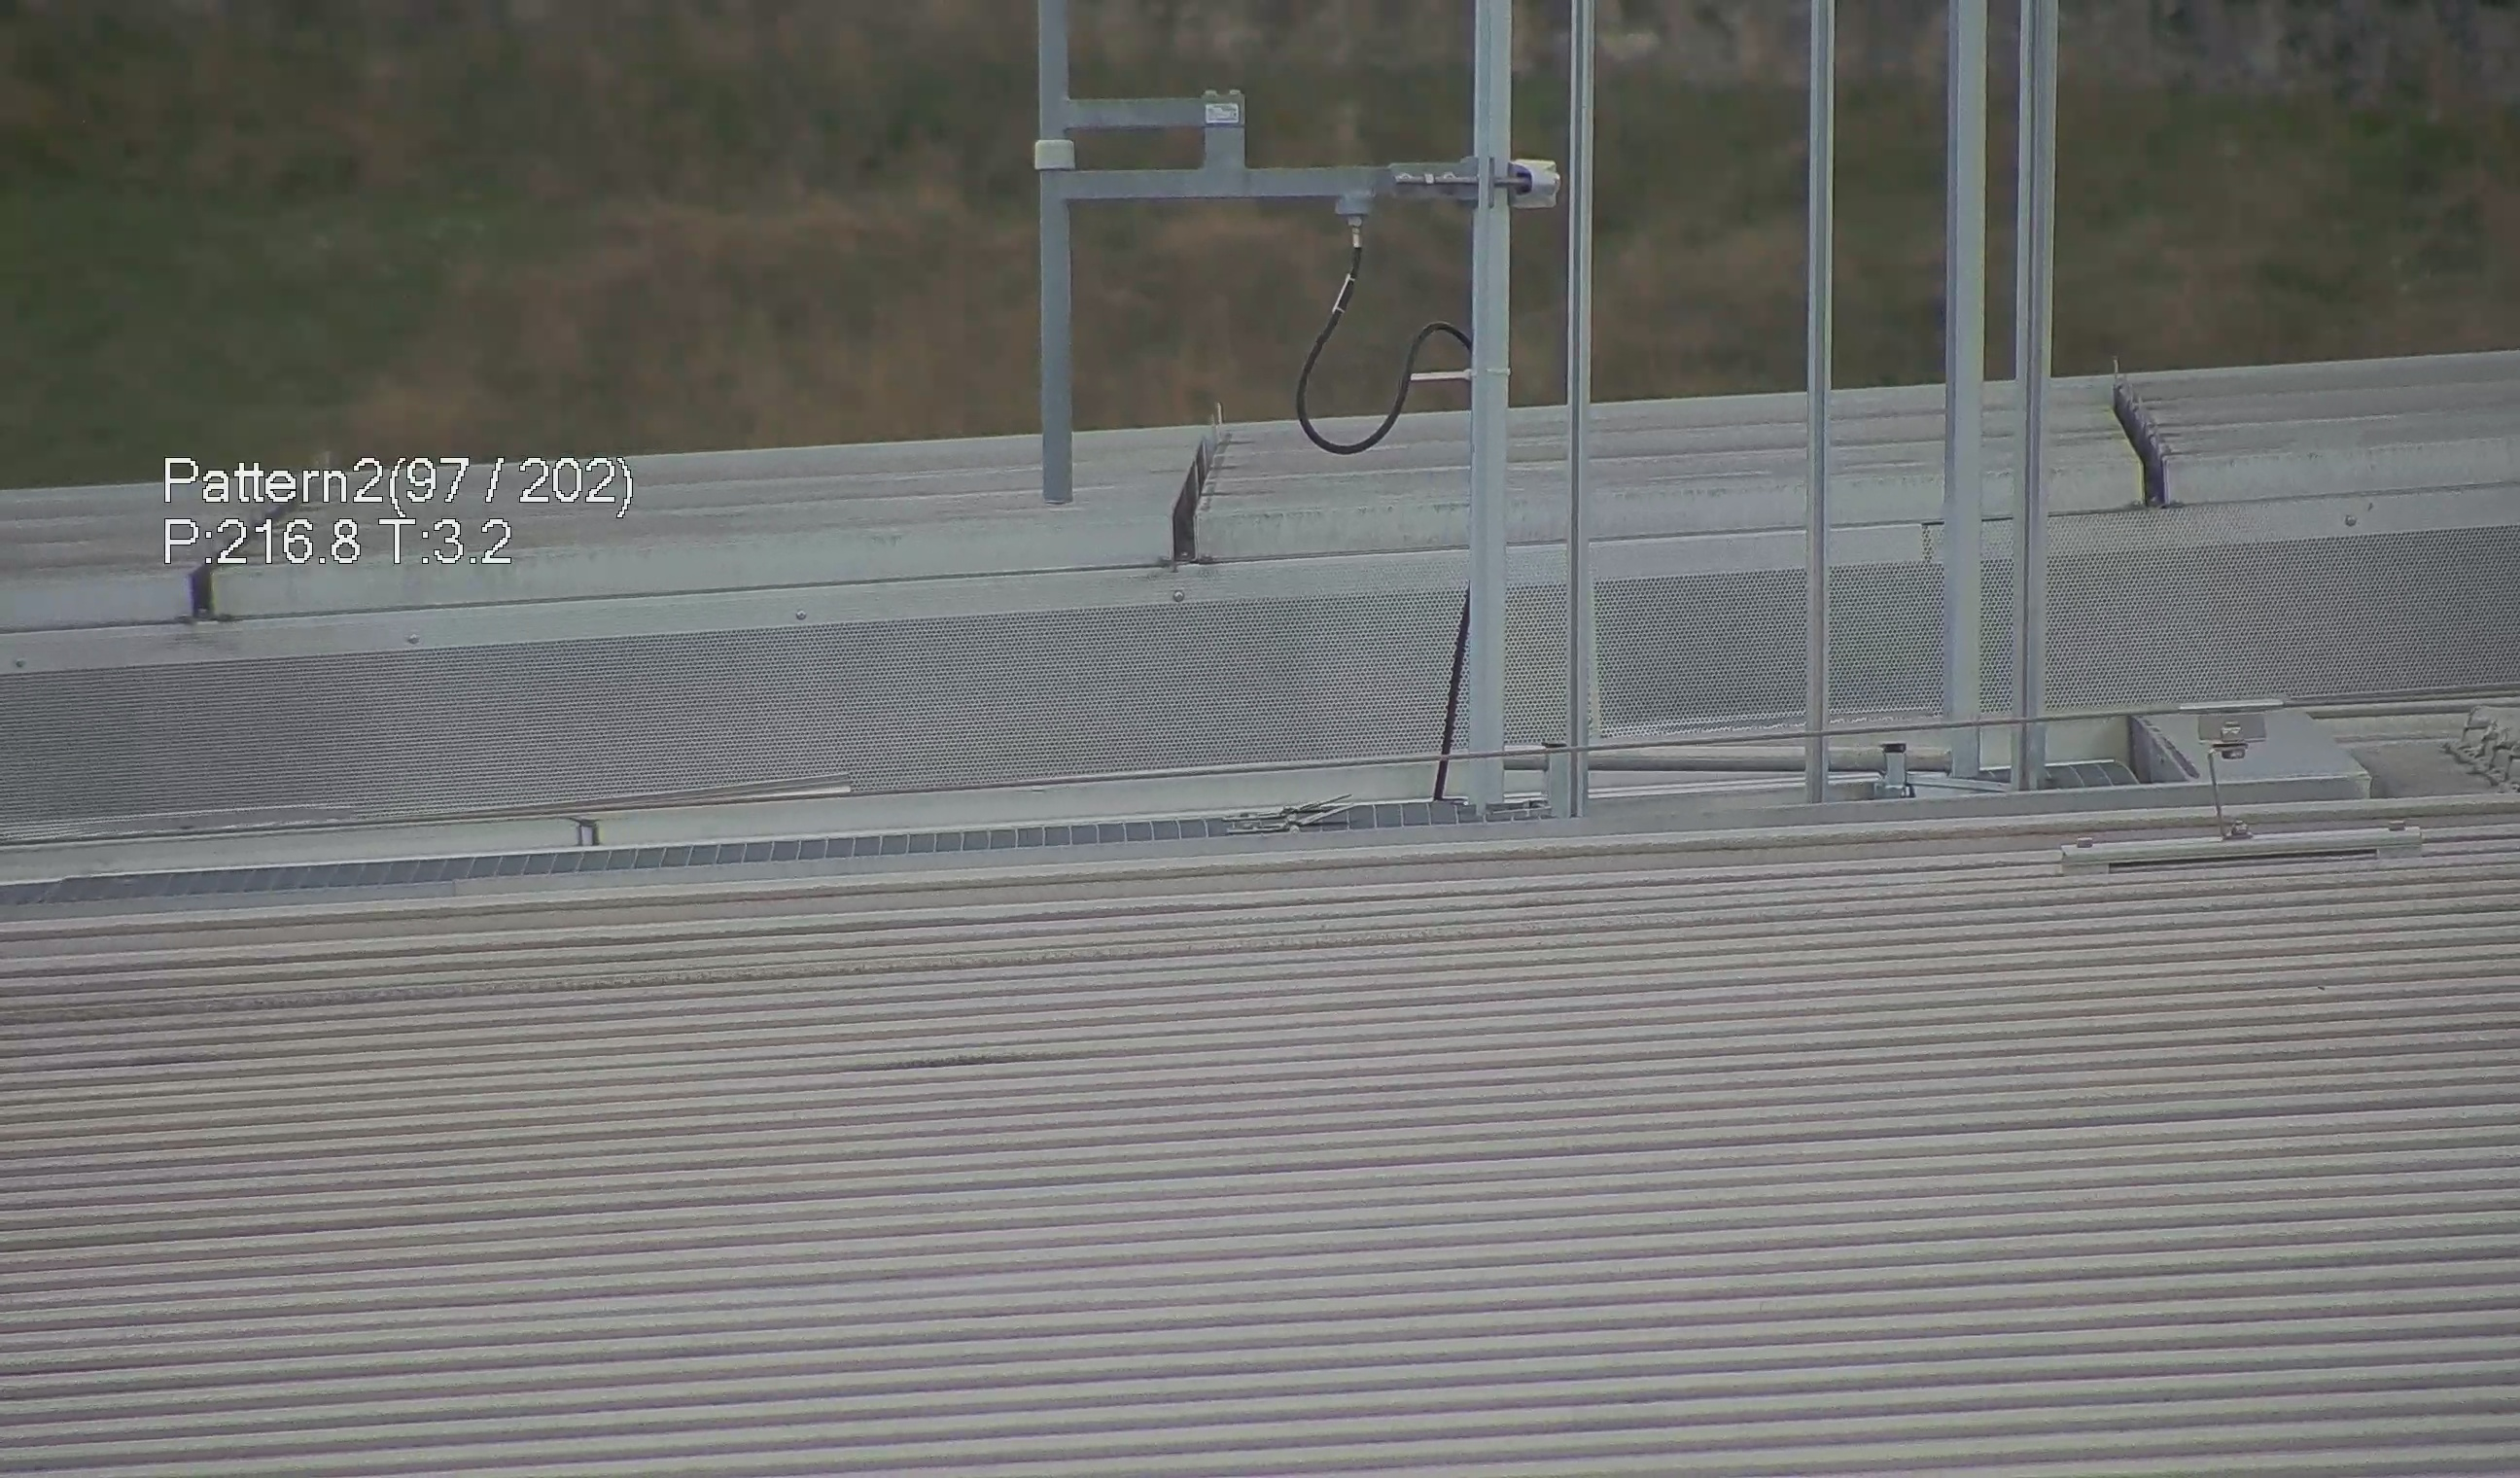Other: (2107, 345, 2189, 512)
